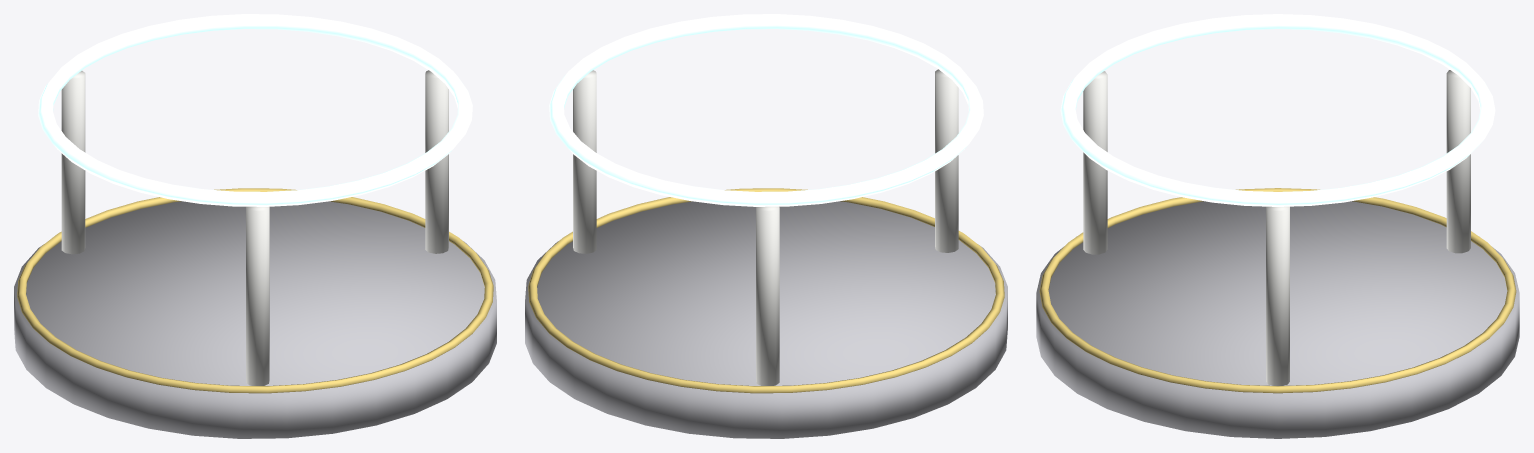
File: build_event_stage.glb
The picture shows the model from 3 angles, left to right: view 1: azimuth 30°, elevation 25°; view 2: azimuth 150°, elevation 25°; view 3: azimuth 270°, elevation 25°; orthographic projection.
Parts seen in each view (by area): view 1: cone; view 2: cone; view 3: cone.
Boxes of the visible parts, x1=… form: cone: x1=14, y1=14, x2=496, y2=438; cone: x1=525, y1=14, x2=1007, y2=438; cone: x1=1036, y1=14, x2=1519, y2=438.
Size of the model in its own units: 6 by 3.2 by 6.
